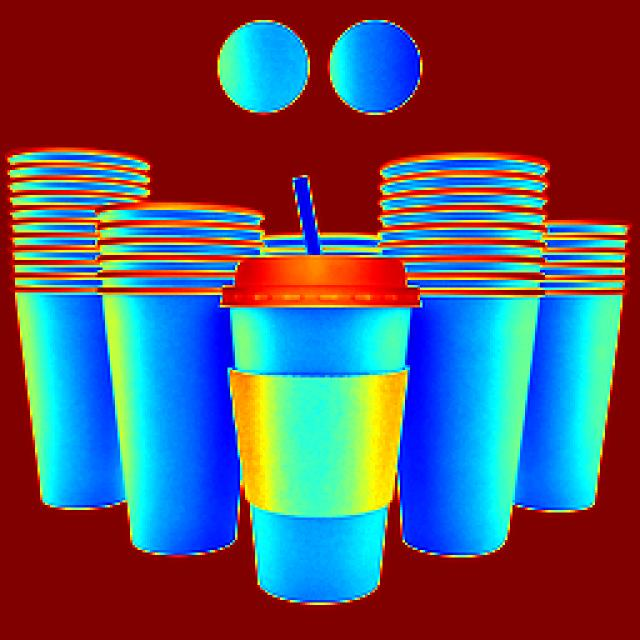Paper Cups: (230, 247, 400, 601), (92, 204, 268, 542), (383, 156, 541, 514), (5, 152, 143, 469), (537, 218, 620, 523)
